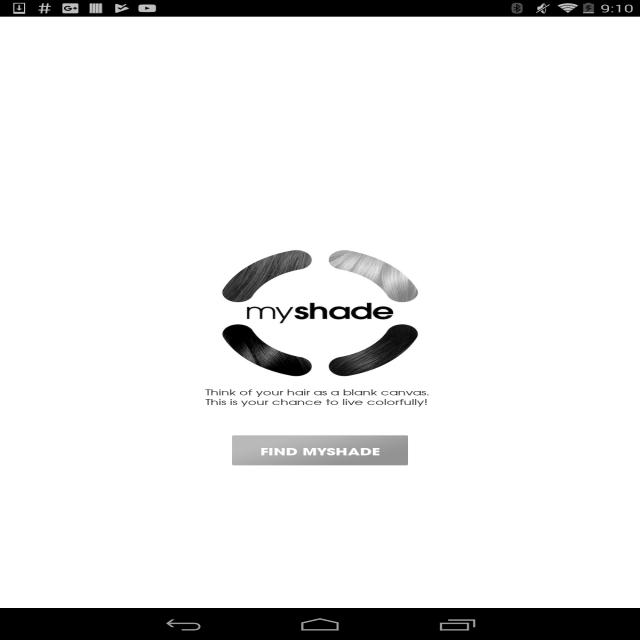Button: (147, 326, 493, 356), (412, 534, 598, 574), (227, 534, 412, 574), (43, 534, 227, 574), (232, 436, 408, 466), (0, 575, 128, 608), (128, 575, 256, 608), (256, 575, 384, 608), (384, 575, 512, 608), (512, 575, 640, 608), (293, 347, 347, 380), (597, 548, 640, 575), (555, 548, 597, 575), (8, 22, 46, 45), (580, 317, 607, 334), (580, 365, 607, 382), (580, 413, 607, 430), (580, 461, 607, 478)
ImageView: (0, 17, 640, 268), (11, 222, 629, 334), (11, 341, 629, 452), (11, 107, 629, 216), (11, 459, 629, 567), (200, 238, 440, 388), (213, 246, 427, 379), (10, 508, 74, 548), (79, 508, 143, 548), (147, 508, 211, 548), (216, 508, 280, 548), (284, 508, 348, 548), (352, 508, 416, 548), (420, 508, 484, 548), (488, 508, 552, 548), (557, 508, 621, 548), (293, 431, 347, 448), (0, 291, 213, 294), (625, 508, 640, 548), (309, 379, 331, 402), (0, 17, 160, 20), (160, 17, 320, 20), (320, 17, 480, 20), (480, 17, 640, 20), (0, 498, 160, 501)
ProgressBar: (294, 280, 346, 312)
TextView: (11, 222, 629, 334), (11, 341, 629, 452), (11, 107, 629, 216), (11, 459, 629, 567), (0, 47, 640, 101), (187, 245, 453, 346), (0, 295, 640, 326), (0, 17, 640, 47), (0, 548, 640, 575), (213, 175, 427, 246), (0, 575, 640, 594), (17, 306, 580, 326), (17, 326, 580, 346), (17, 354, 580, 374), (17, 374, 580, 394), (17, 402, 580, 422), (17, 422, 580, 442), (17, 450, 580, 470), (17, 470, 580, 490), (147, 326, 493, 356), (412, 534, 598, 574), (227, 534, 412, 574), (43, 534, 227, 574), (213, 268, 427, 295), (426, 268, 640, 294), (0, 268, 213, 294), (232, 436, 408, 466), (205, 387, 434, 409), (0, 475, 160, 501), (160, 475, 320, 501), (320, 475, 480, 501), (480, 475, 640, 501), (293, 347, 347, 380)
